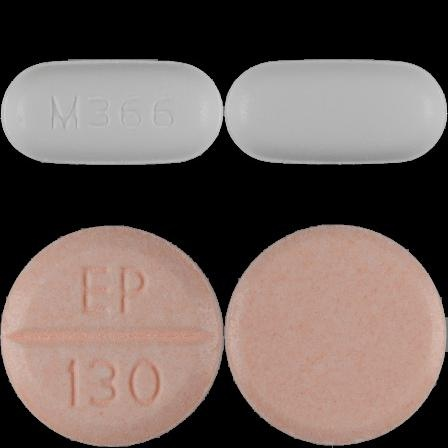43353-721: (0, 0, 224, 224)
